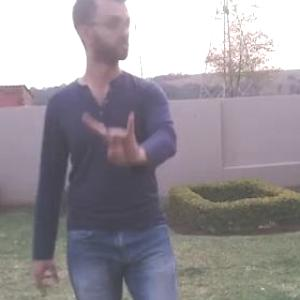takeoff-hand: (75, 104, 145, 176)
